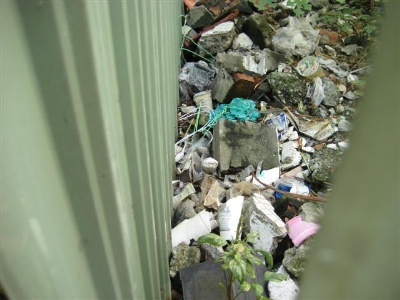bottle: (297, 56, 326, 80)
